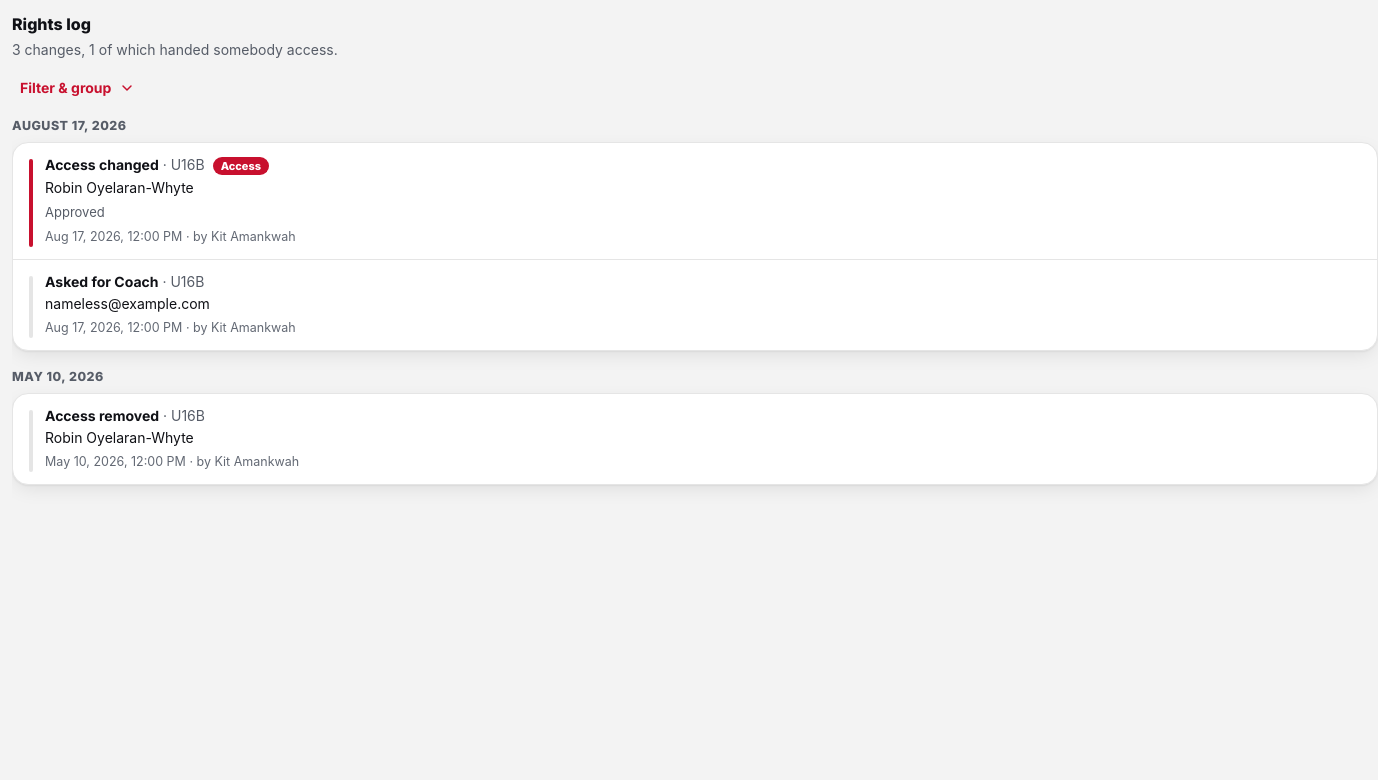
AdminRightsLog — filtering and grouping the window › groups by day by default and flattens when the toggle is cleared
Check: the number of elements with test id "audit-day-group" is 2, box top-left (12, 116), bottom-right (1377, 351); top-left (12, 367), bottom-right (1377, 485)
Step 1. Click the button with test id "audit-filter-toggle" → x=78, y=88, box top-left (12, 72), bottom-right (143, 104)
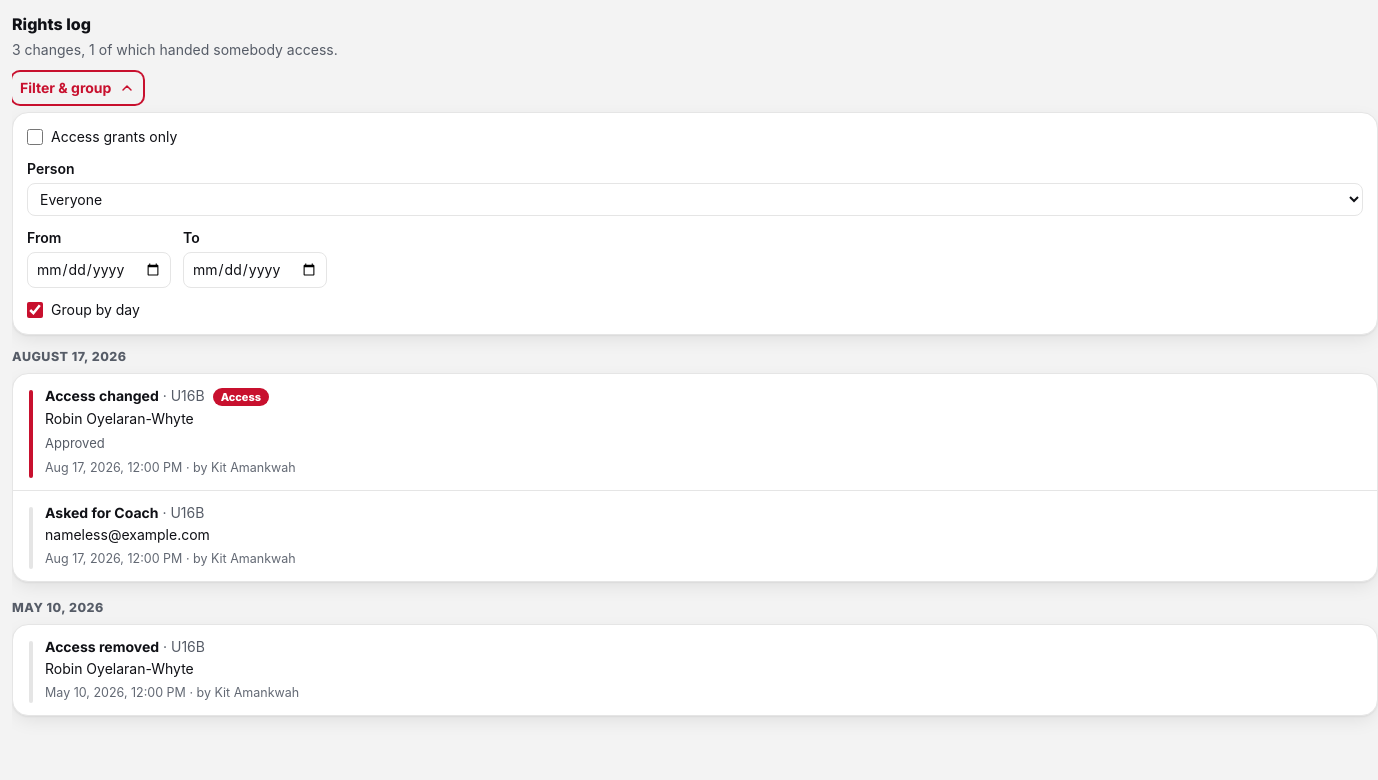
Step 2. Click the checkbox with test id "filter-group" → x=35, y=310, box top-left (27, 302), bottom-right (43, 318)
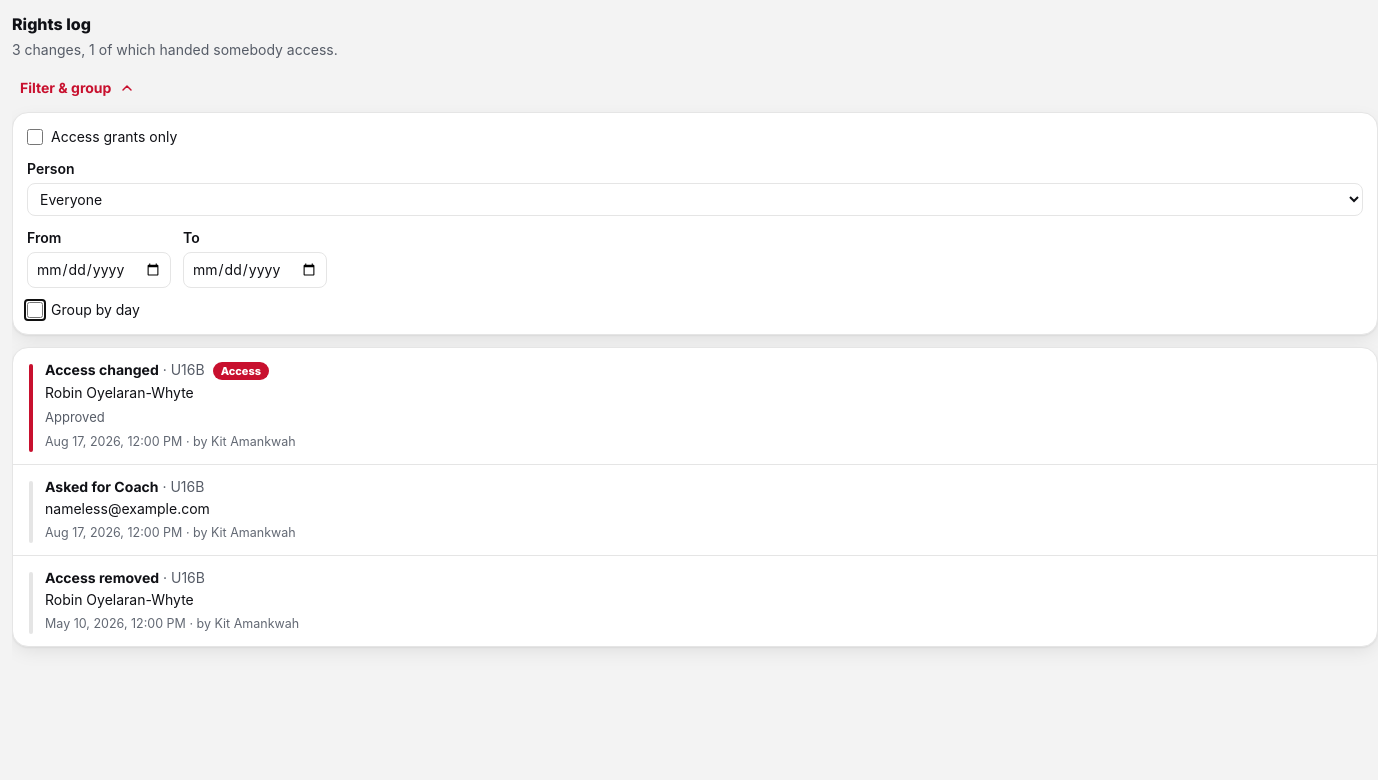
Check: the number of list items with test id "audit-entry" is 3, box top-left (13, 348), bottom-right (1377, 465); top-left (13, 465), bottom-right (1377, 556); top-left (29, 569), bottom-right (299, 634)
Check: the element with test id "audit-day-group" is gone
